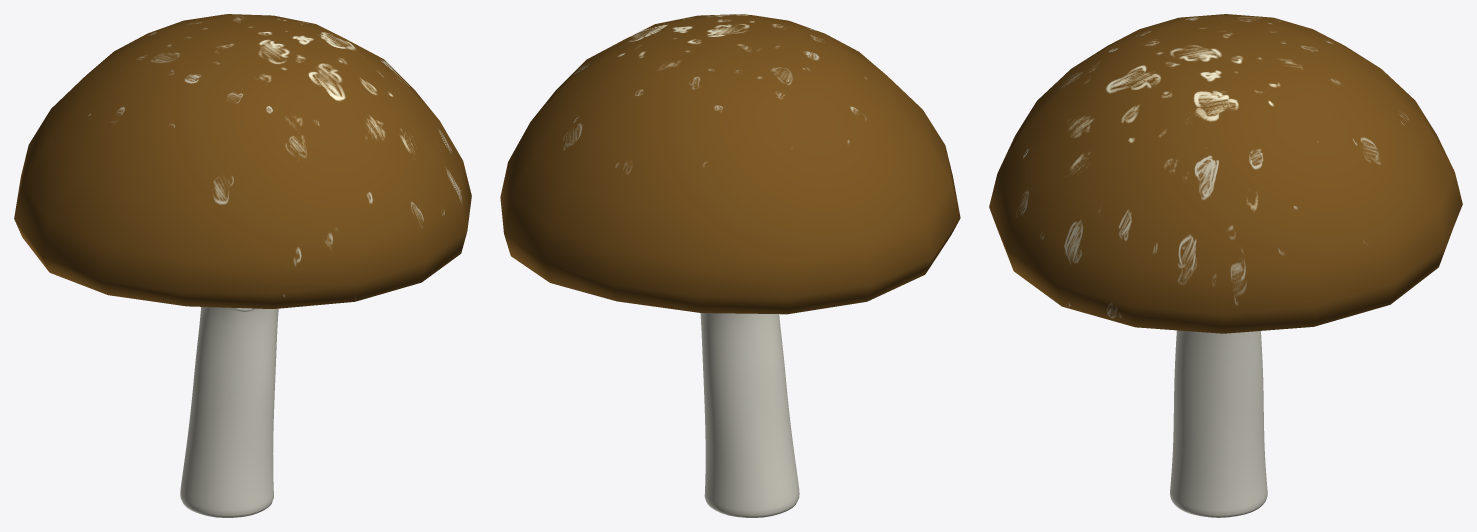
Rendered from Normal Mushroom.fbx.
The picture shows the model from 3 angles, left to right: view 1: azimuth 30°, elevation 25°; view 2: azimuth 150°, elevation 25°; view 3: azimuth 270°, elevation 25°; orthographic projection. The views are drawn at different scales.
Parts seen in each view (by area): view 1: Normal Mushroom.001, White Russula handle.001; view 2: Normal Mushroom.001, White Russula handle.001; view 3: Normal Mushroom.001, White Russula handle.001.
Boxes of the visible parts, bbox=[...] form: Normal Mushroom.001: bbox=[14, 14, 471, 308]; White Russula handle.001: bbox=[180, 307, 278, 517]; Normal Mushroom.001: bbox=[500, 14, 960, 314]; White Russula handle.001: bbox=[700, 313, 799, 517]; Normal Mushroom.001: bbox=[989, 14, 1462, 333]; White Russula handle.001: bbox=[1170, 330, 1267, 517].
Size of the model in its own units: 79.14 by 85.87 by 78.73.
